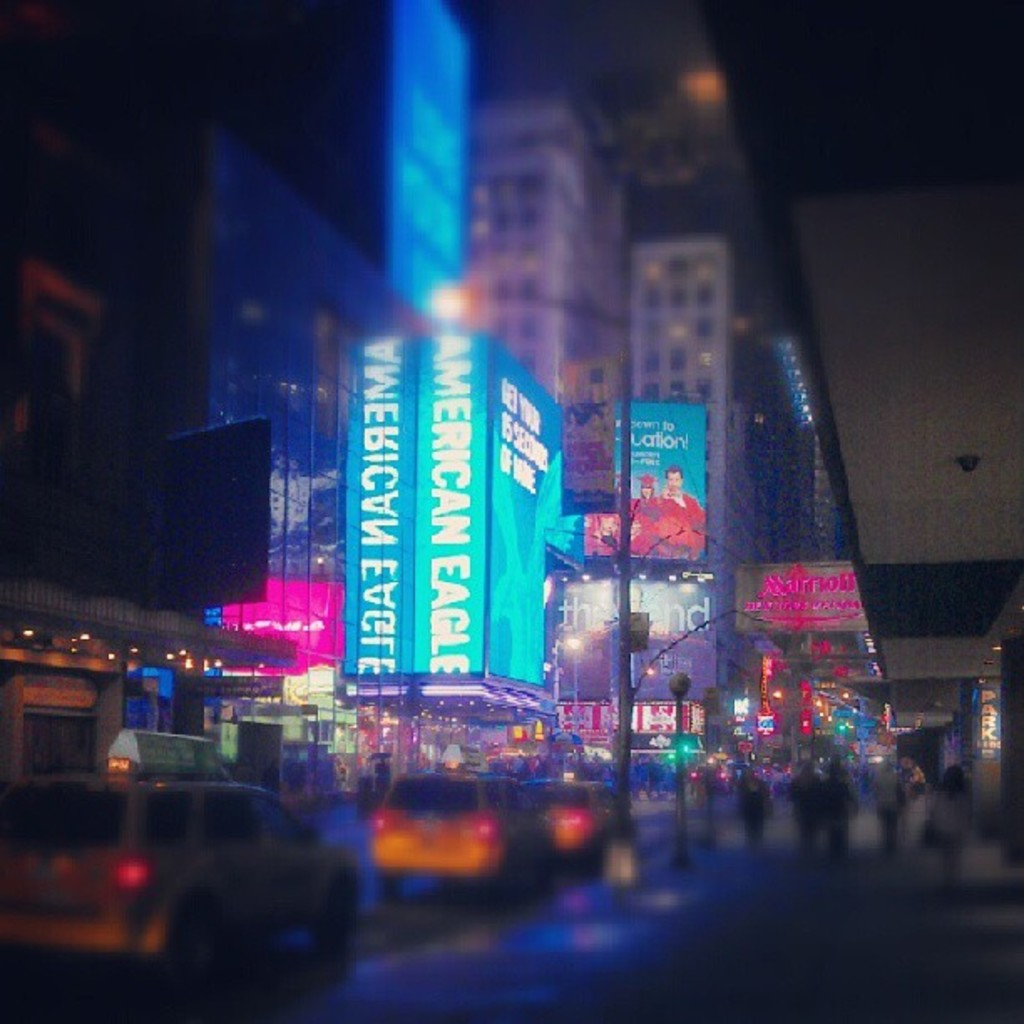Car: (0, 726, 361, 1003), (361, 771, 537, 905), (528, 773, 617, 868)
